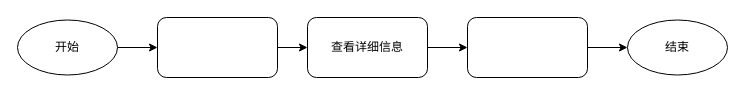
The diagram is 745 pixels wide and 95 high, and some of its shapes have lost their labels. The shapes that lost their labels are listed below. From the top down, each one's centre as x and y in pixels, then its label:
At (217,47): "查看举报列表".
At (527,47): "删除帖子".
